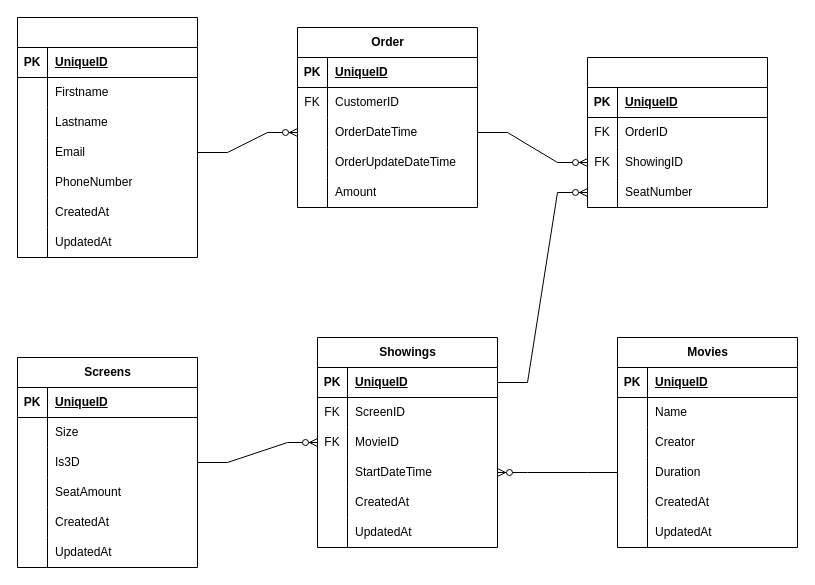
Image size: 815x585. Some labels were removed from this diagram. Each missing label, with the box of its shape:
Customer: (16, 16, 198, 258)
Ticket: (586, 56, 768, 208)
